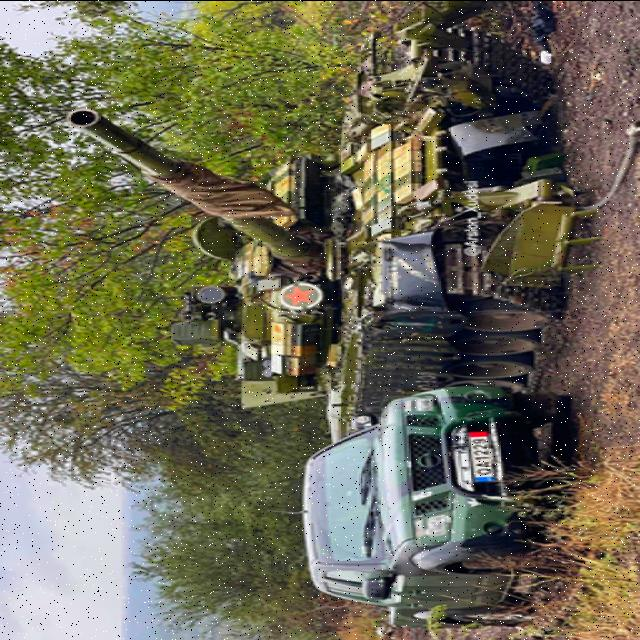CAR: (296, 388, 576, 632)
TANK: (64, 29, 560, 454)
